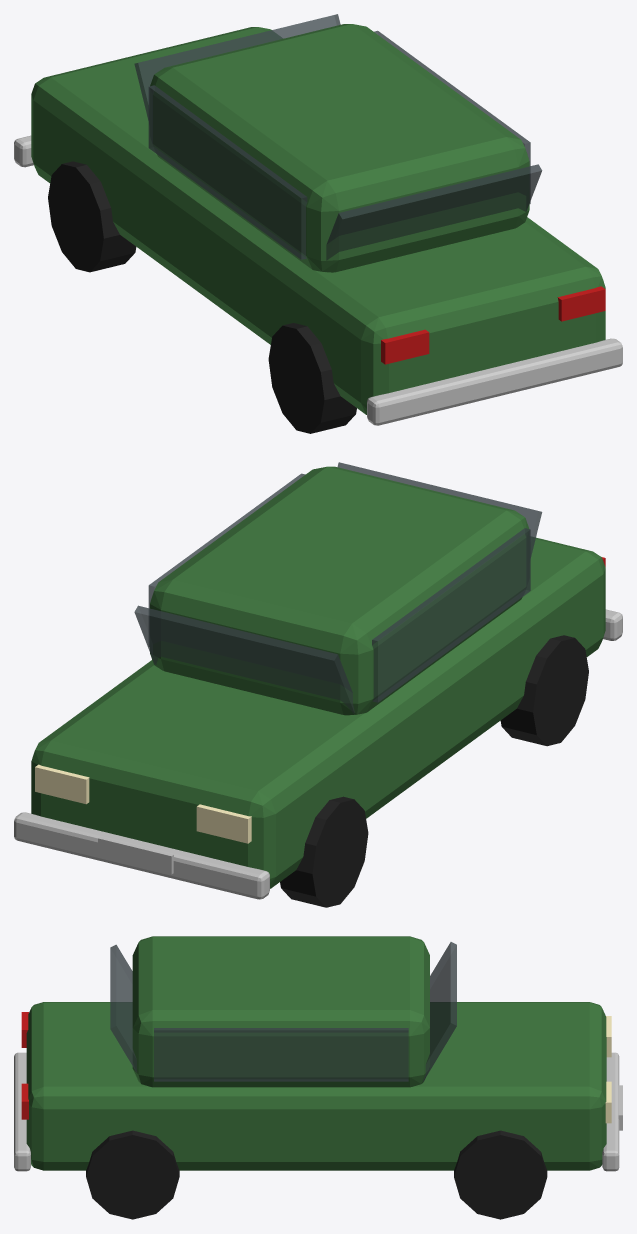
The model's file is oto_y.glb.
The picture shows the model from 3 angles, top to bottom: view 1: azimuth 30°, elevation 25°; view 2: azimuth 150°, elevation 25°; view 3: azimuth 270°, elevation 25°; orthographic projection. The views are drawn at different scales.
Visible parts, largest first — view 1: ArkaCam; view 2: ArkaCam; view 3: ArkaCam.
Boxes of the visible parts, <box> form: ArkaCam: <box>14,14,622,433</box>; ArkaCam: <box>14,462,622,907</box>; ArkaCam: <box>14,936,622,1219</box>.
Bounding box in the file's own units: 0.36 × 0.3 × 0.861.
